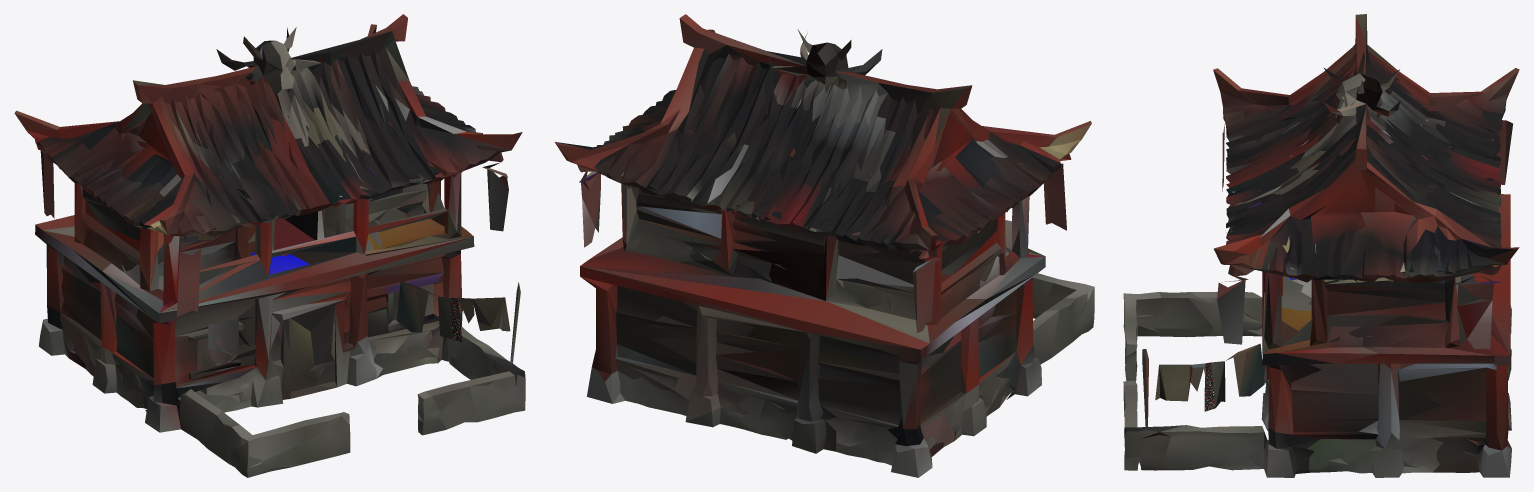
Rendered from house_timber_b.glb.
3 views of the same model, side by side, from view 1: azimuth 30°, elevation 25°; view 2: azimuth 150°, elevation 25°; view 3: azimuth 270°, elevation 25° (orthographic). The views are drawn at different scales.
Parts seen in each view (by area): view 1: house_timber_b; view 2: house_timber_b; view 3: house_timber_b.
Part boxes in pixels (x1,y1,x2,y2): house_timber_b: (14, 14, 525, 477); house_timber_b: (555, 14, 1094, 477); house_timber_b: (1123, 14, 1519, 477).
Bounding box in the file's own units: 8.07 × 7 × 7.43.
1 material, 1 textured.
